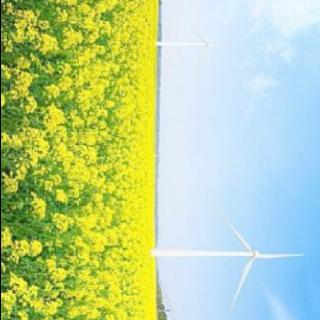Cirrostratus: (173, 0, 320, 119)
